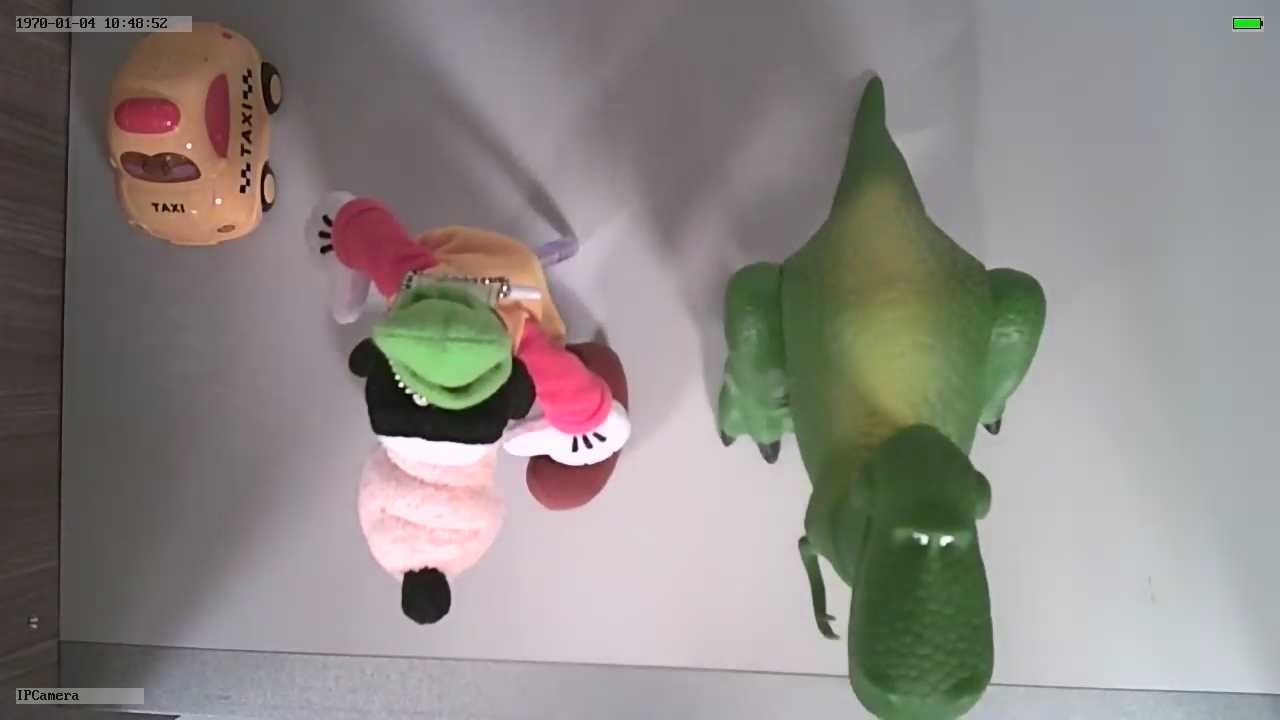goofy: (302, 189, 637, 629)
